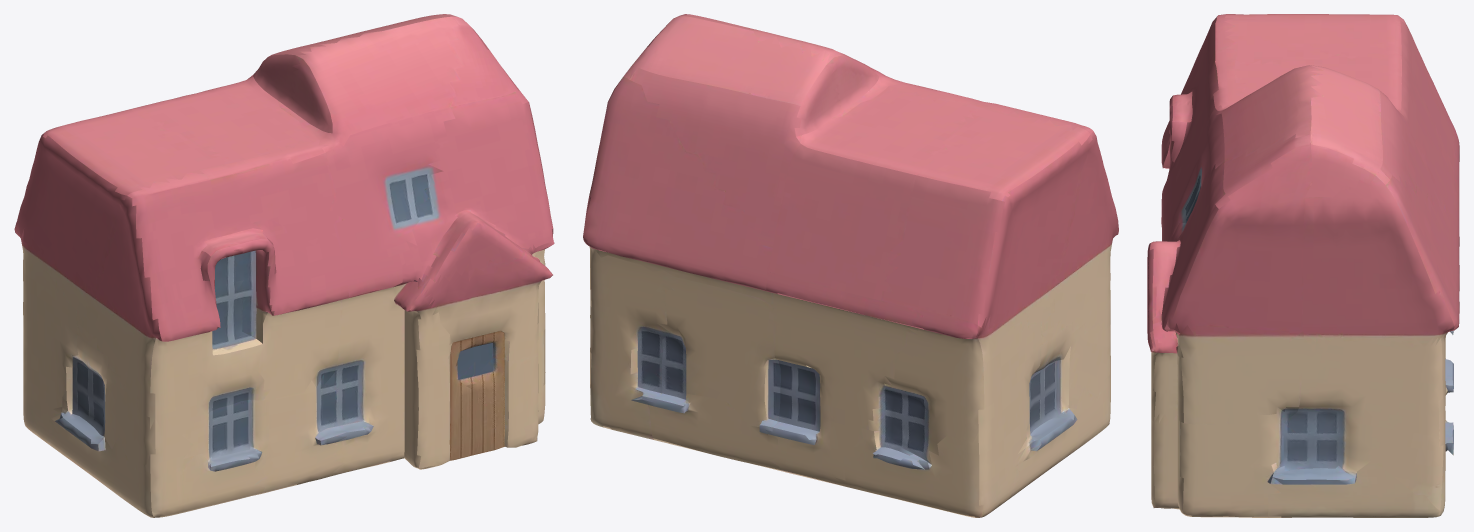
The model's file is pastel-house.glb.
3 renders of one model, left to right at view 1: azimuth 30°, elevation 25°; view 2: azimuth 150°, elevation 25°; view 3: azimuth 270°, elevation 25°, orthographic.
Bounding box in the file's own units: 1.9 × 1.62 × 1.23.
Materials: 1 (1 with a texture image).
